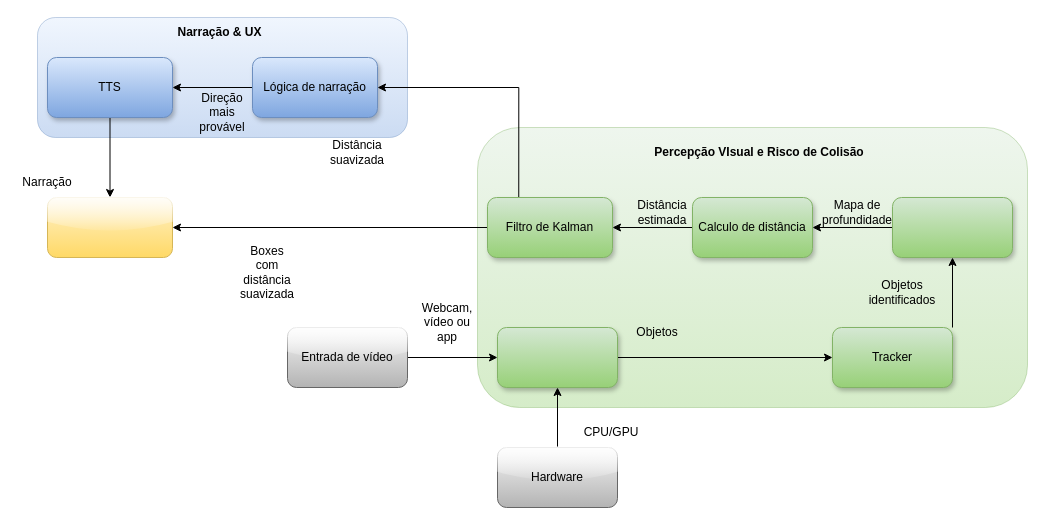
Some shapes in this 1045 by 525 pixel diagram are drawn without their labels. Each missing label, with the centre of its shape:
MidaS: point (953, 228)
Usuário: point (109, 227)
YOLO: point (558, 358)
